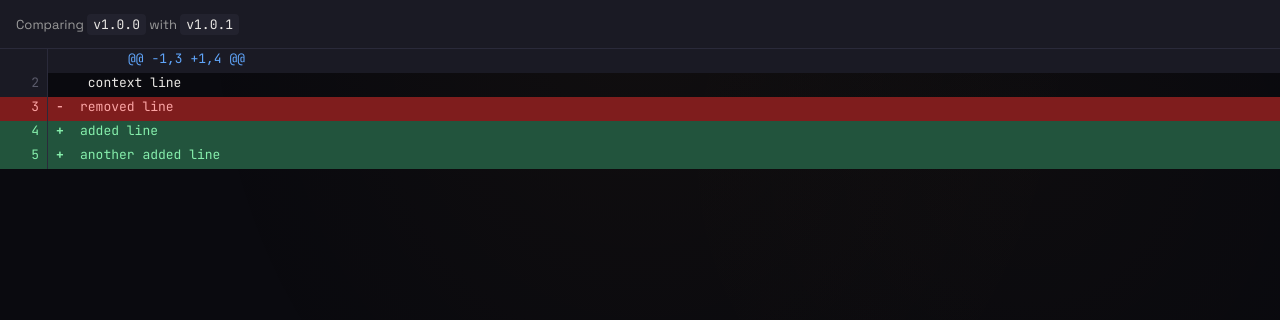
Test case: DiffViewer › shows comment input when line number clicked
Click the button "2".
click(24, 85)  # box [0,73,48,97]
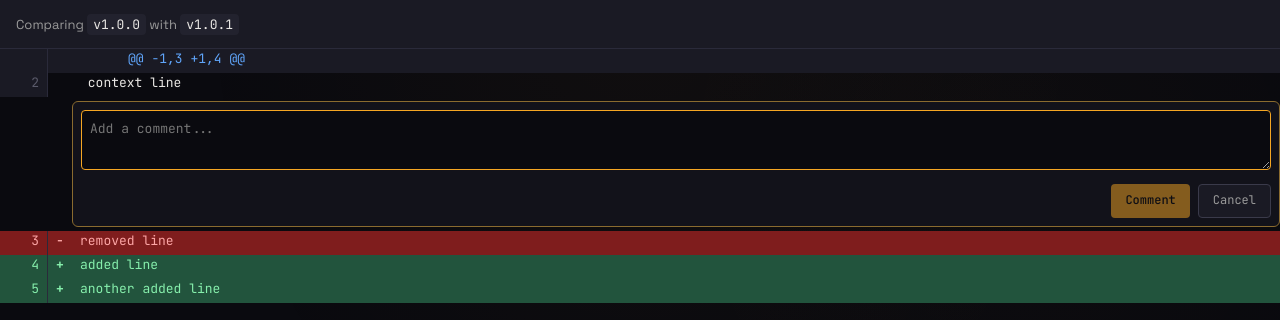
Expected: the text box with placeholder "Add a comment..." is shown, [81,110,1271,170]
